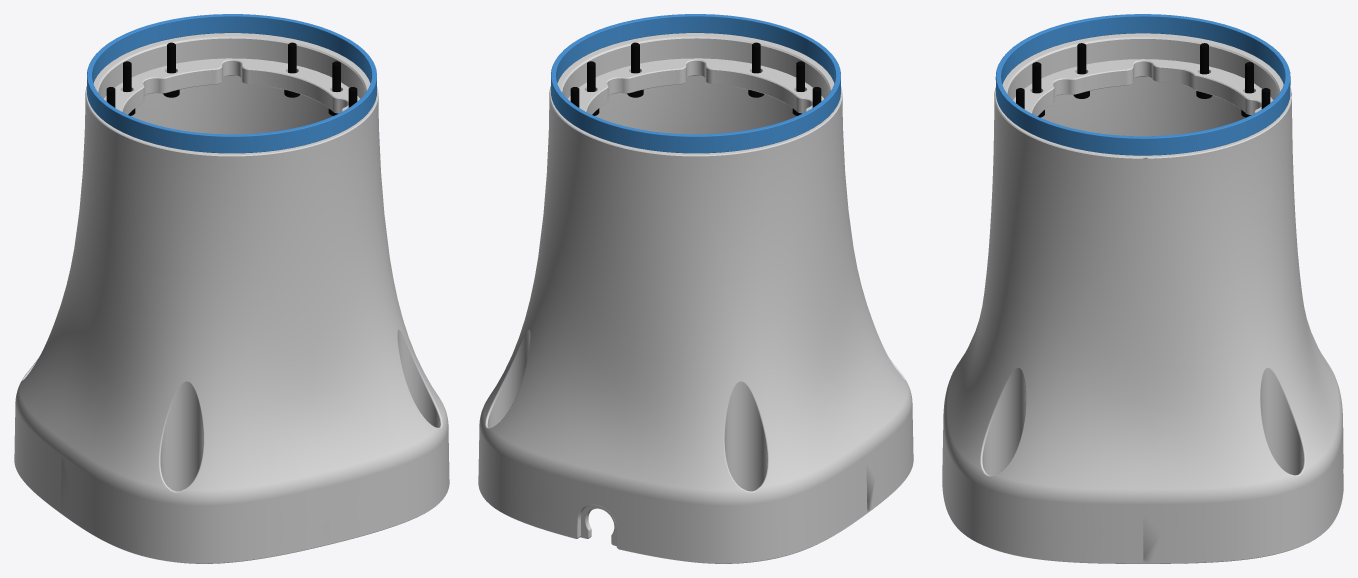
The picture shows the model from 3 angles, left to right: view 1: azimuth 30°, elevation 25°; view 2: azimuth 150°, elevation 25°; view 3: azimuth 270°, elevation 25°; orthographic projection.
Parts seen in each view (by area): view 1: 1; view 2: 1; view 3: 1.
Boxes of the visible parts, x1,y1,x2,y2 form: 1: (14, 14, 449, 563); 1: (478, 14, 913, 563); 1: (942, 14, 1343, 563).
Size of the model in its own units: 135 by 150 by 135.
